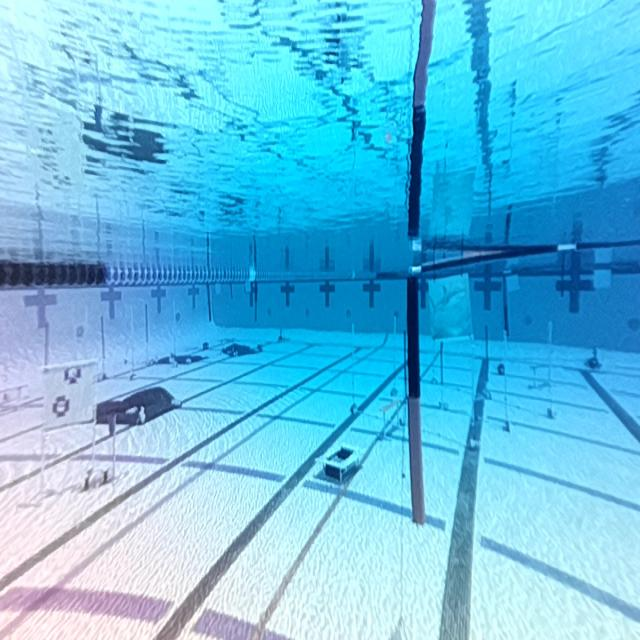round_nose: (430, 277, 470, 338)
